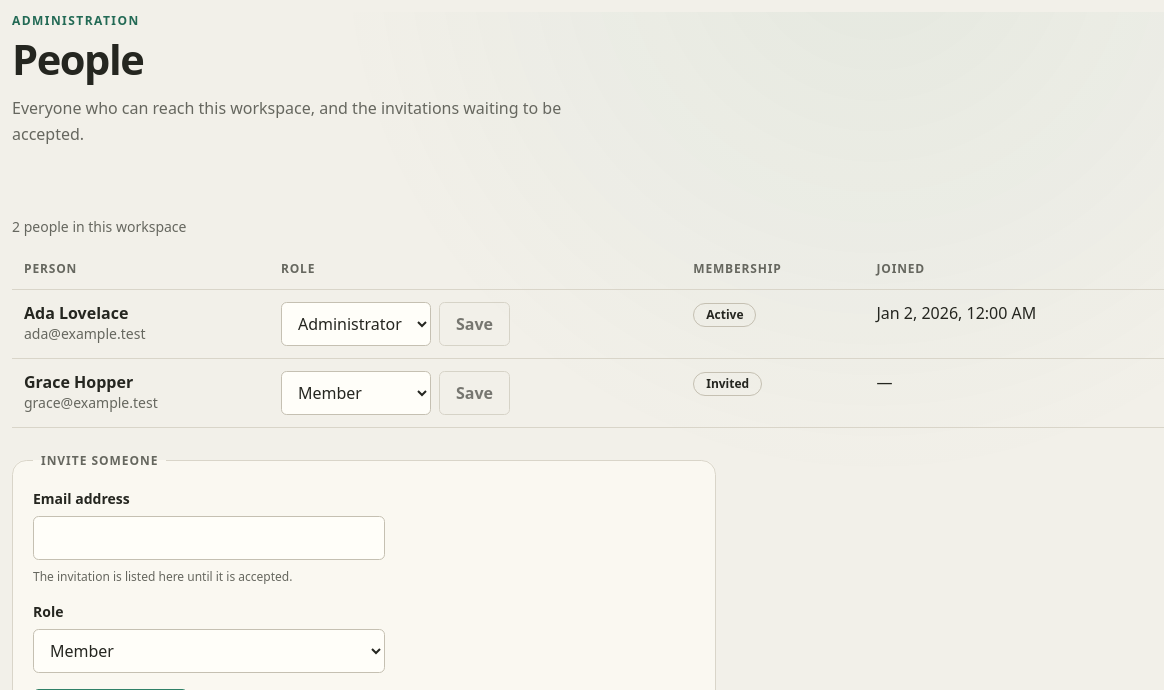
Test: administration: people › reads 412 as a stale row that must be reloaded
The width and height of the screenshot is (1164, 690).
Step 1. Select "Viewer" in the dropdown named "Role for Grace Hopper" → (356, 393), box left=281, top=371, right=431, bottom=415
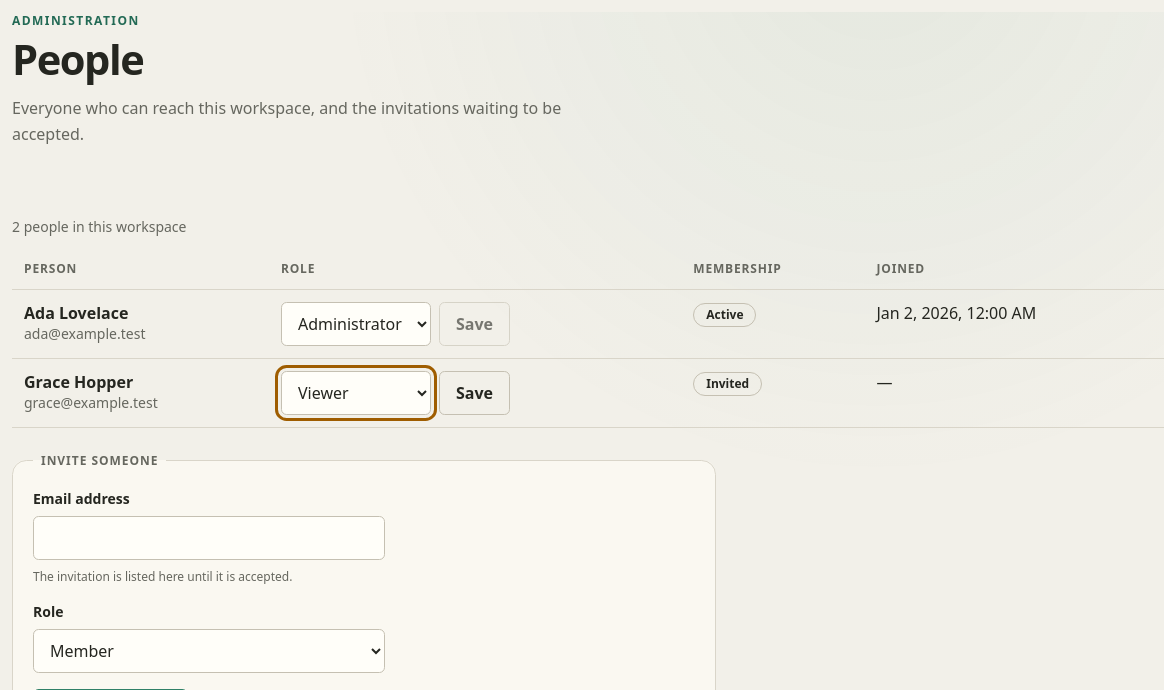
Step 2. Click the button with aria-label "Save role for Grace Hopper" → (474, 393), box left=439, top=371, right=510, bottom=415
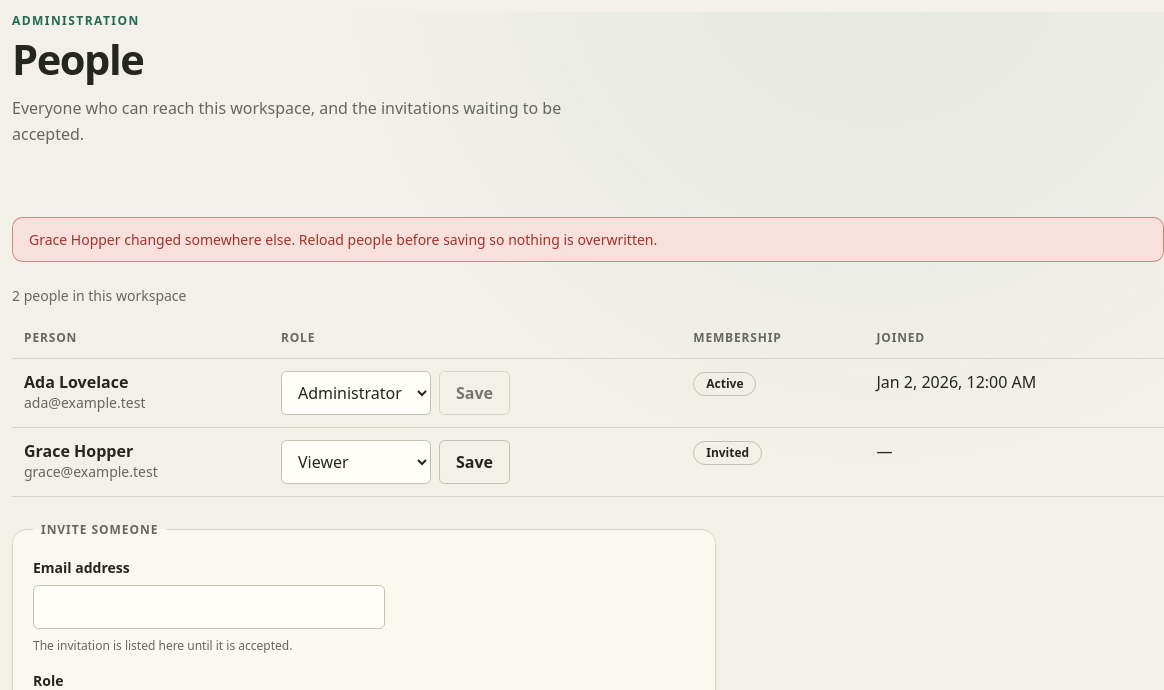
Result: the 2nd message shows "changed somewhere else" at left=29, top=230, right=657, bottom=249
